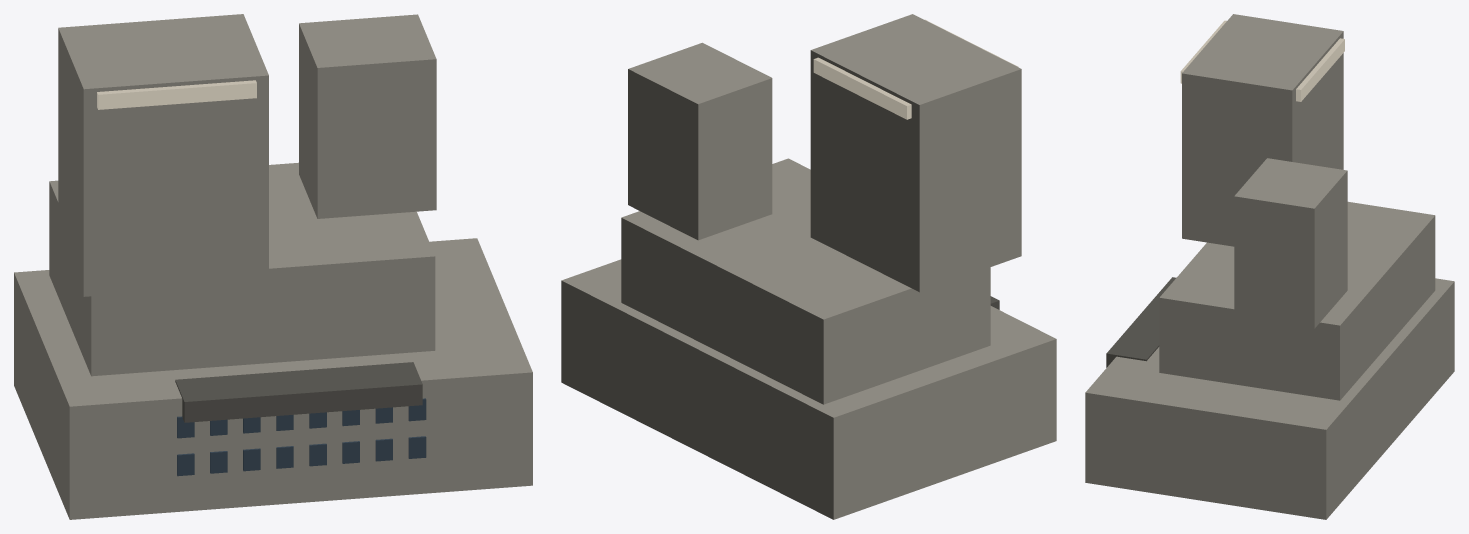
The model's file is nationaltheatre.glb.
3 renders of one model, left to right at view 1: azimuth 30°, elevation 25°; view 2: azimuth 150°, elevation 25°; view 3: azimuth 270°, elevation 25°, orthographic. The views are drawn at different scales.
Parts seen in each view (by area): view 1: nationaltheatre; view 2: nationaltheatre; view 3: nationaltheatre.
Part boxes in pixels (box(x1,y1,x2,y2)): nationaltheatre: box(14, 14, 532, 519); nationaltheatre: box(561, 14, 1056, 519); nationaltheatre: box(1085, 14, 1454, 519).
Size of the model in its own units: 0.7385 by 0.6126 by 0.6207.
